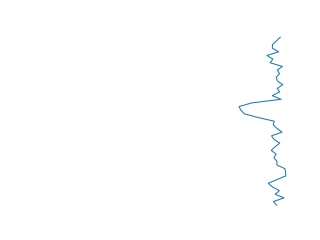interdistributaryEstuary: (236, 38, 292, 205)
